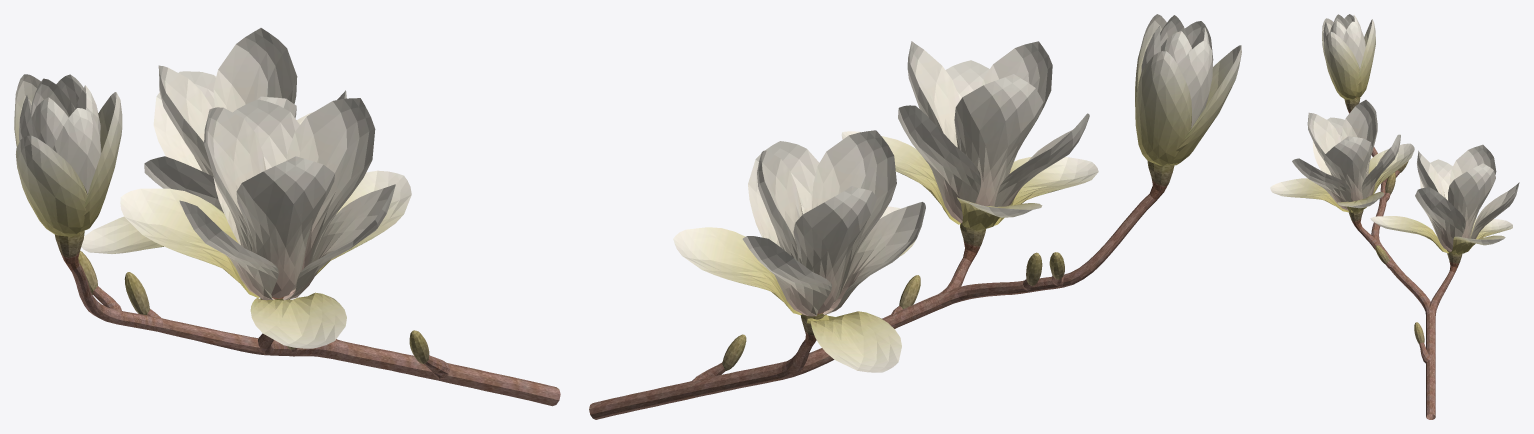
Rendered from magnolia.glb.
3 renders of one model, left to right at view 1: azimuth 30°, elevation 25°; view 2: azimuth 150°, elevation 25°; view 3: azimuth 270°, elevation 25°, orthographic. The views are drawn at different scales.
Parts seen in each view (by area): view 1: Object_2; view 2: Object_2; view 3: Object_2.
Part boxes in pixels (bbox=[...]): Object_2: bbox=[14, 28, 560, 406]; Object_2: bbox=[589, 14, 1241, 419]; Object_2: bbox=[1270, 14, 1519, 419].
Bounding box in the file's own units: 0.6771 × 0.5366 × 0.4611.
1 material, 1 textured.
